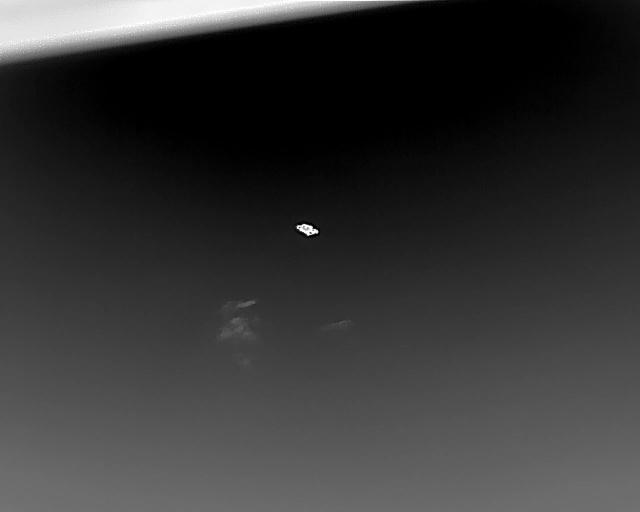fpv-drone: (296, 223, 318, 236)
